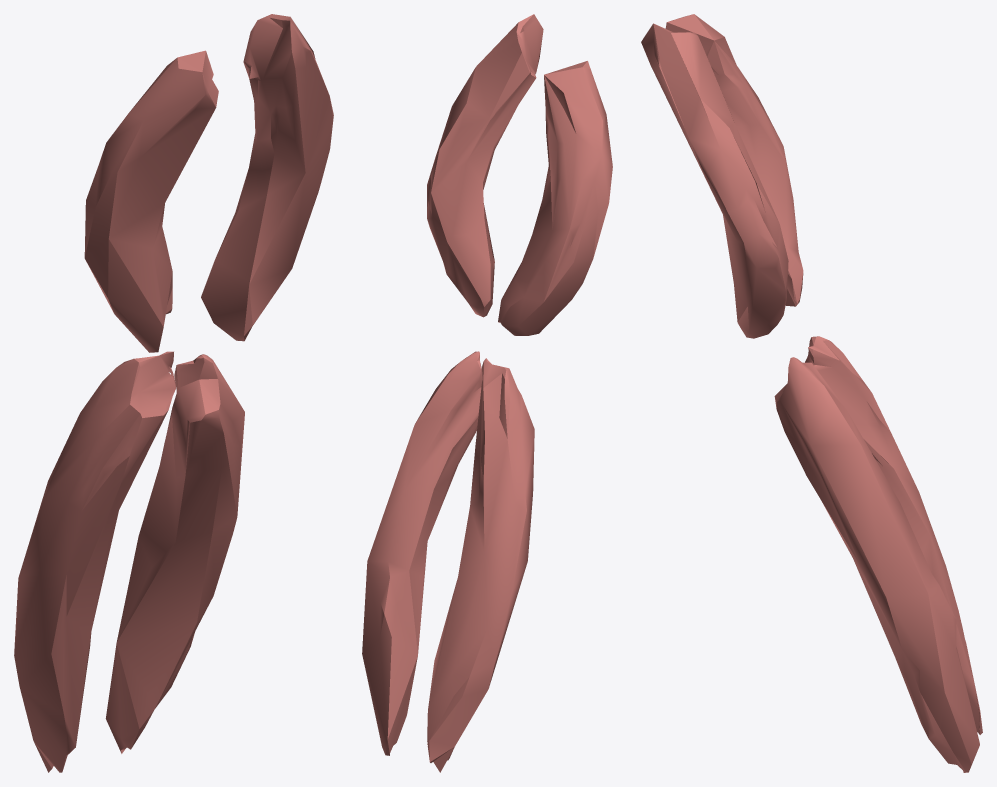
The model's file is fma71308_fj868.glb.
3 renders of one model, left to right at view 1: azimuth 30°, elevation 25°; view 2: azimuth 150°, elevation 25°; view 3: azimuth 270°, elevation 25°, orthographic. The views are drawn at different scales.
Visible parts, largest first — view 1: FMA71308_FJ868; view 2: FMA71308_FJ868; view 3: FMA71308_FJ868.
Boxes of the visible parts, bbox=[...] form: FMA71308_FJ868: bbox=[14, 14, 333, 772]; FMA71308_FJ868: bbox=[362, 14, 612, 772]; FMA71308_FJ868: bbox=[641, 14, 982, 772].
Size of the model in its own units: 0.0126 by 0.0452 by 0.0187.
